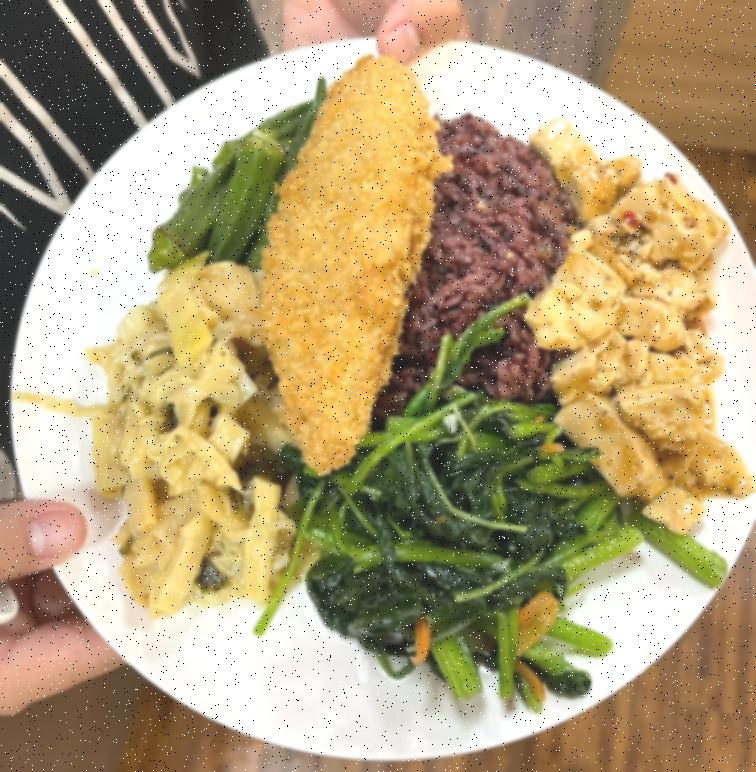fried cod steak: (253, 48, 454, 478)
plate: (0, 24, 754, 762)
purple rice: (422, 116, 568, 394)
side dish: (308, 396, 628, 718), (528, 113, 756, 533), (90, 252, 286, 622), (148, 77, 314, 267)
